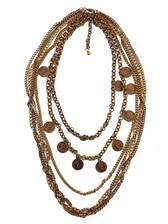other: (19, 7, 148, 219)
